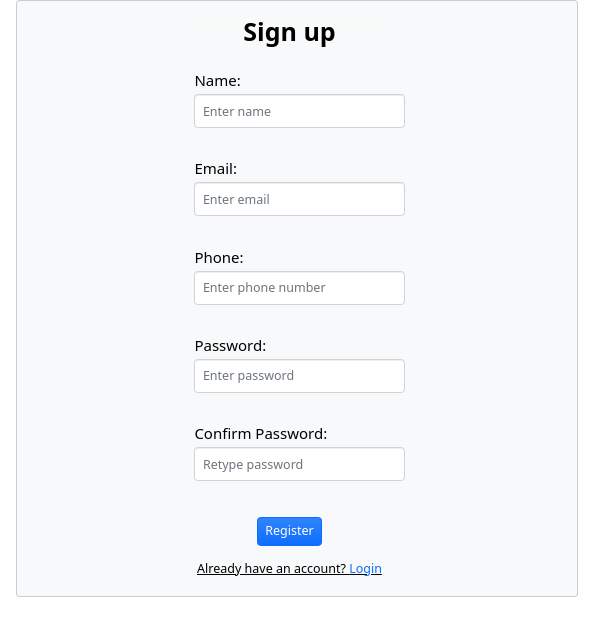
Test: Register › phone number verification
In the field with test id "phone": point(300, 288) [194, 270, 405, 304], type "2845765673"
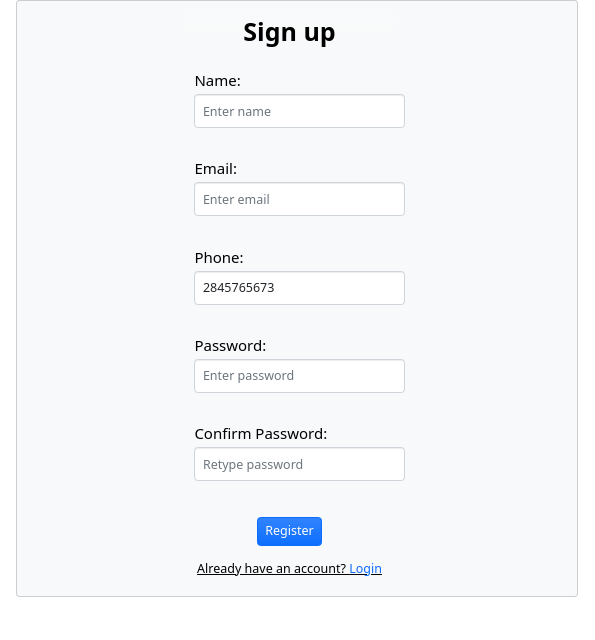
Leave the field with test id "phone", box [194, 270, 405, 304]
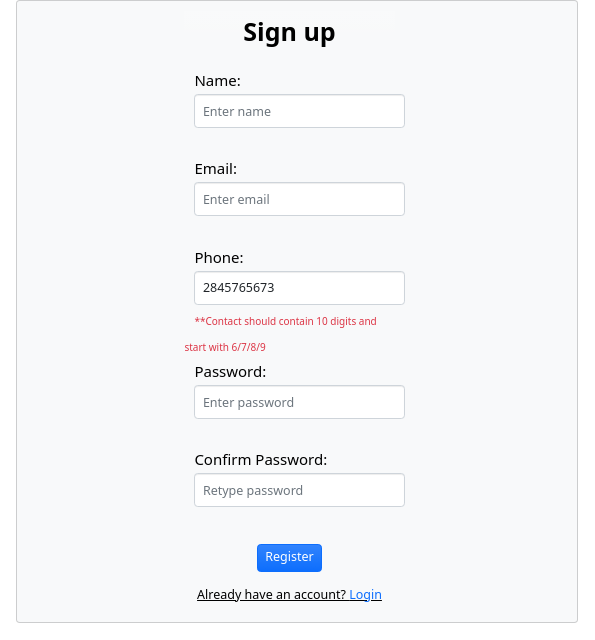
Now the text "**Contact should contain 10 digits and start with 6/7/8/9" is shown, box [184, 314, 377, 354]
